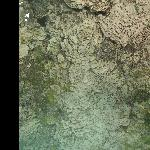dead: (19, 1, 148, 146)
